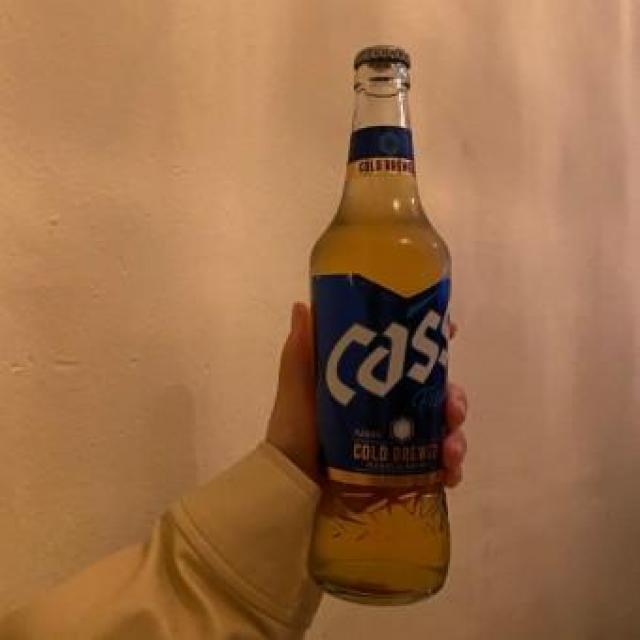beer-bottle: (302, 37, 472, 628)
